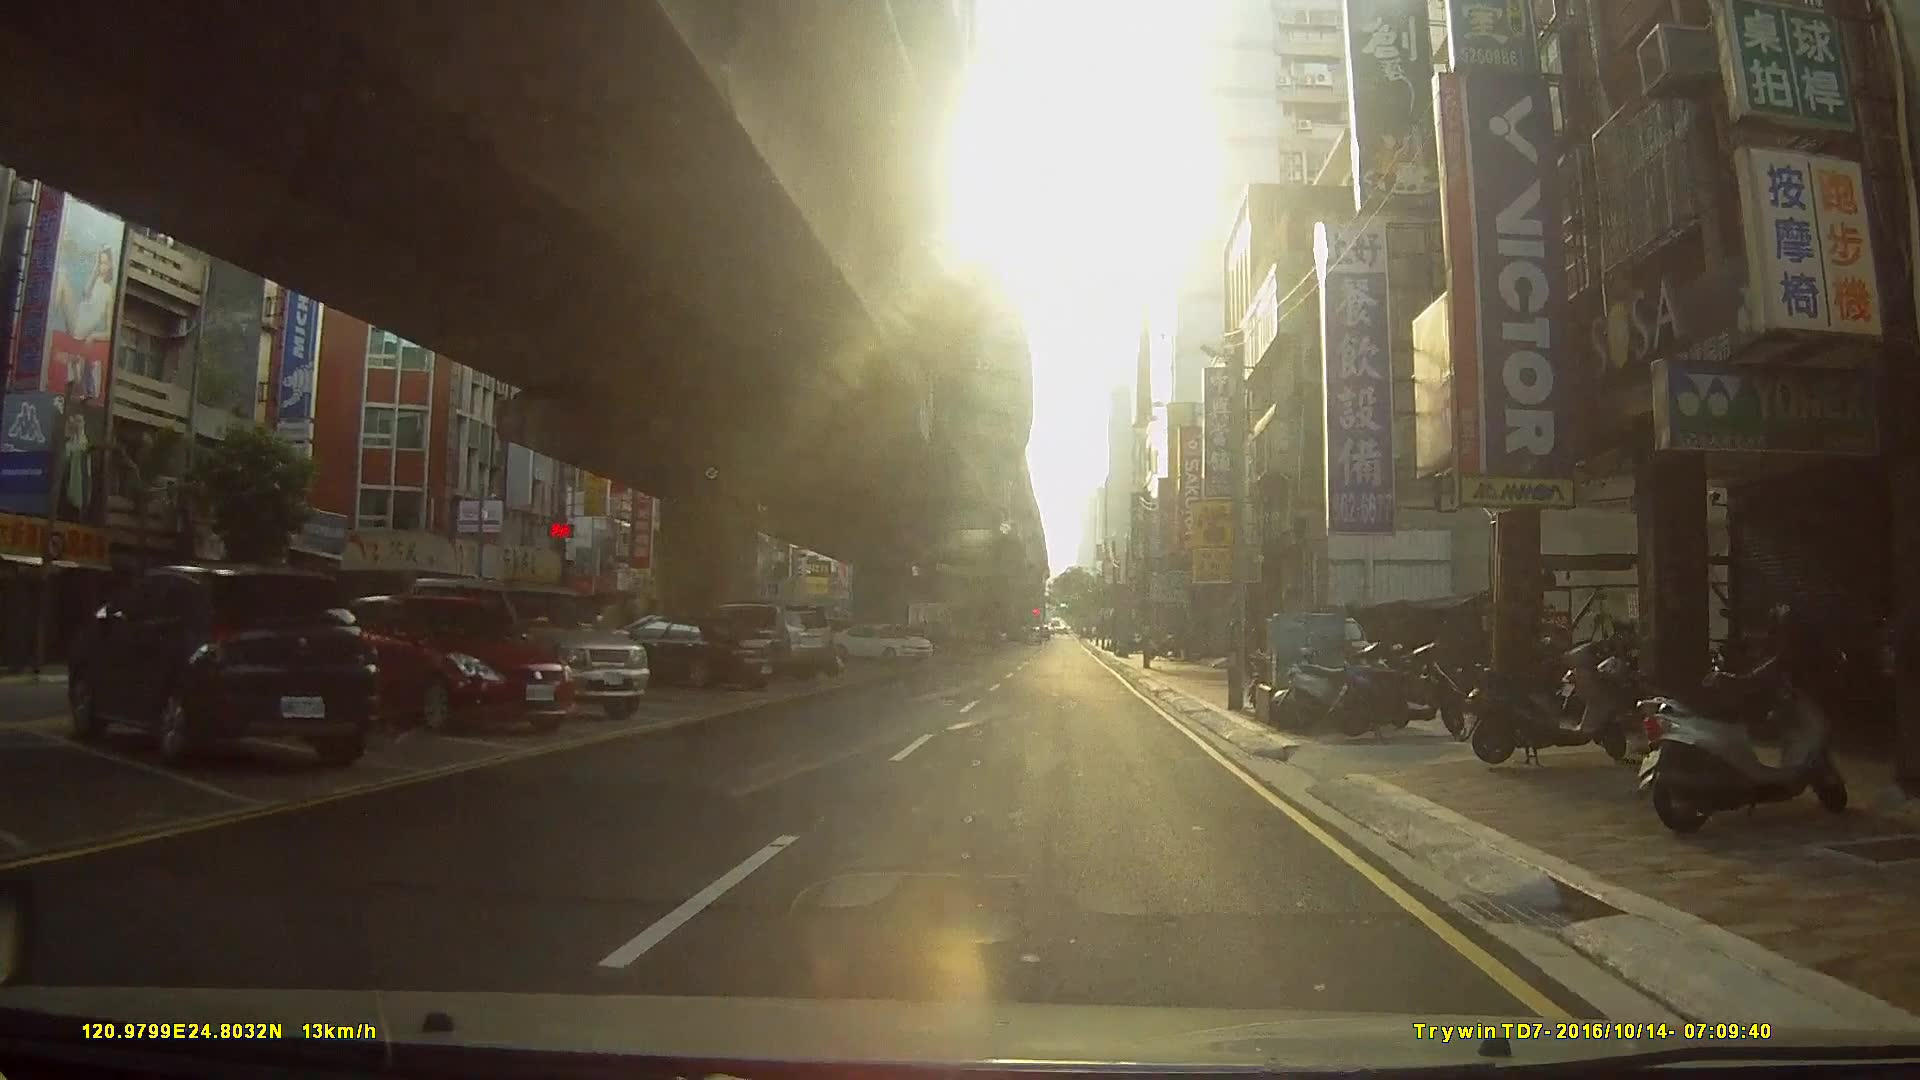vehicle: (67, 560, 381, 764), (404, 570, 653, 719), (335, 589, 576, 732), (604, 611, 790, 688), (680, 597, 837, 680), (827, 621, 934, 662)
